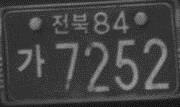2: (83, 41, 110, 94), (143, 37, 170, 89)
4: (112, 11, 129, 35)
5: (114, 39, 138, 92)
7: (53, 42, 80, 92)
8: (93, 11, 110, 35)
가: (15, 43, 44, 78)
전북_O: (51, 12, 89, 35)
